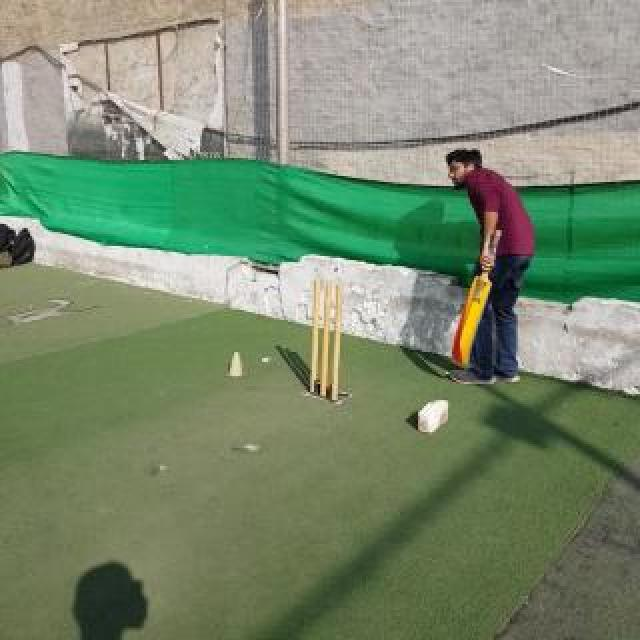bat: (452, 228, 502, 366)
